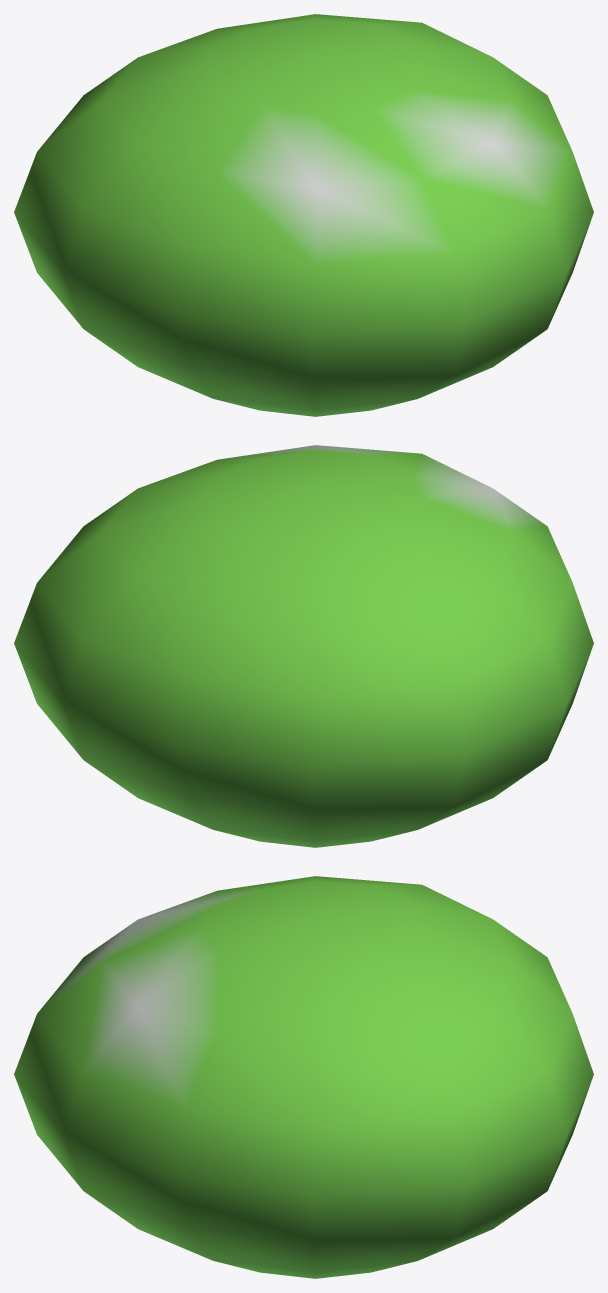
The model's file is slime.glb.
3 renders of one model, top to bottom at view 1: azimuth 30°, elevation 25°; view 2: azimuth 150°, elevation 25°; view 3: azimuth 270°, elevation 25°, orthographic.
Visible parts, largest first — view 1: Slime; view 2: Slime; view 3: Slime.
Part boxes in pixels (x1,y1,x2,y2): Slime: [14, 14, 593, 416]; Slime: [14, 445, 593, 847]; Slime: [14, 876, 593, 1278].
Size of the model in its own units: 1 by 0.6 by 1.
